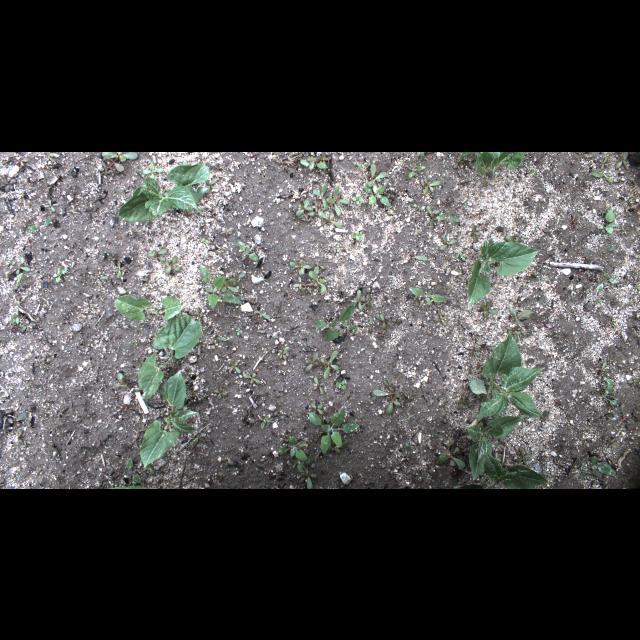crop: (469, 328, 549, 420), (453, 417, 553, 488), (134, 304, 206, 400), (116, 160, 218, 224), (140, 368, 200, 470), (466, 237, 540, 307), (114, 288, 188, 322)
weed: (308, 398, 362, 454), (472, 153, 550, 185), (197, 259, 247, 307), (314, 296, 358, 342), (369, 376, 415, 414), (292, 196, 340, 224), (94, 152, 142, 178), (434, 440, 470, 472), (109, 456, 147, 486), (305, 254, 331, 296), (276, 436, 310, 464), (324, 181, 352, 215), (408, 285, 452, 305), (292, 152, 340, 170), (364, 161, 391, 191), (296, 452, 318, 488), (318, 346, 340, 379), (235, 236, 259, 266), (366, 178, 392, 204), (158, 252, 188, 274), (310, 180, 330, 212), (142, 244, 170, 266), (288, 253, 314, 274), (596, 205, 614, 235), (420, 173, 442, 195), (372, 310, 396, 328), (423, 204, 442, 224), (254, 412, 276, 428), (612, 152, 634, 168), (406, 162, 426, 178), (110, 260, 126, 278), (243, 371, 263, 385)
